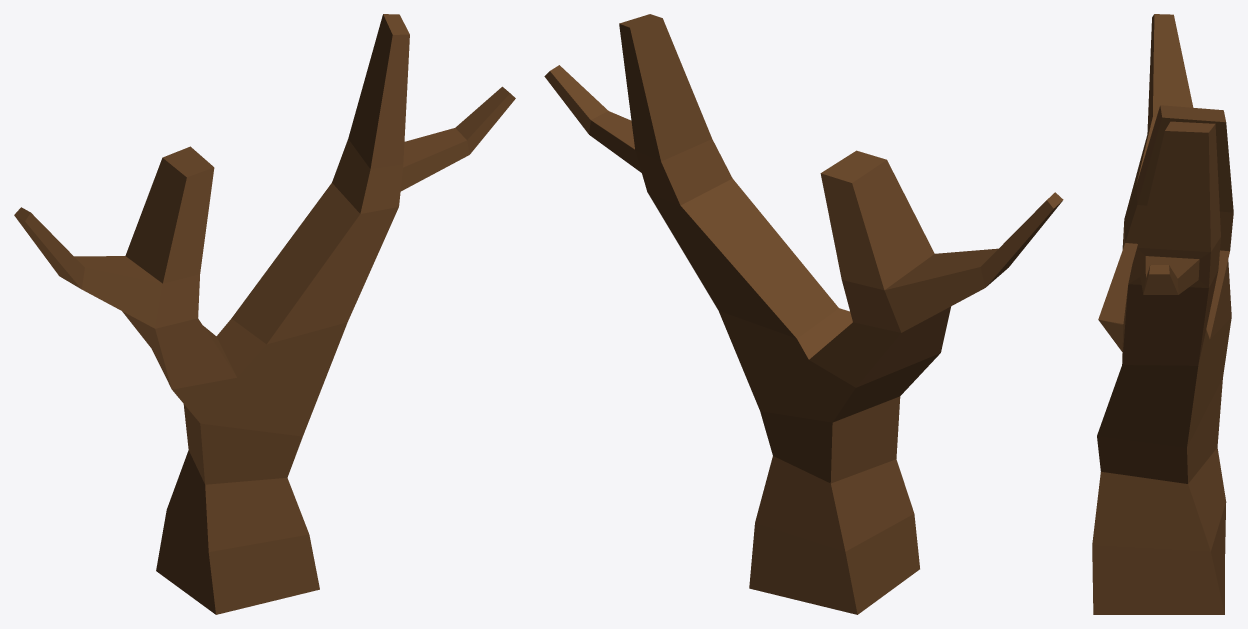
The model's file is albero4.obj.
The picture shows the model from 3 angles, left to right: view 1: azimuth 30°, elevation 25°; view 2: azimuth 150°, elevation 25°; view 3: azimuth 270°, elevation 25°; orthographic projection. The views are drawn at different scales.
Visible parts, largest first — view 1: DeadOak1; view 2: DeadOak1; view 3: DeadOak1.
Boxes of the visible parts, x1,y1,x2,y2 form: DeadOak1: (14, 14, 515, 614); DeadOak1: (544, 14, 1063, 614); DeadOak1: (1092, 14, 1233, 614).
Bounding box in the file's own units: 6.31 × 6.22 × 1.44.
Materials: 1 (1 with a texture image).
